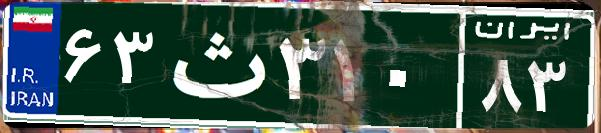0: (385, 28, 445, 110)
1: (330, 28, 385, 110)
3: (273, 28, 330, 110), (110, 28, 158, 105), (525, 38, 570, 115)
6: (57, 26, 110, 107)
8: (475, 38, 525, 113)
ث: (158, 15, 273, 115)
